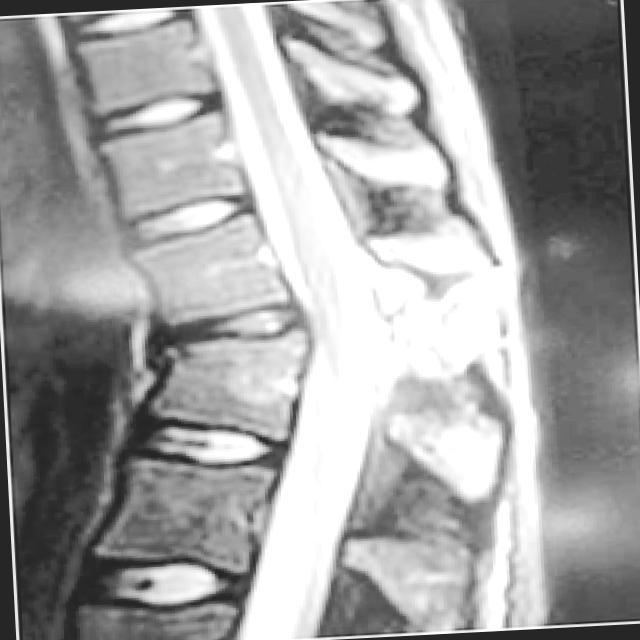Compression-Crush Fracutre: (145, 324, 319, 448)
